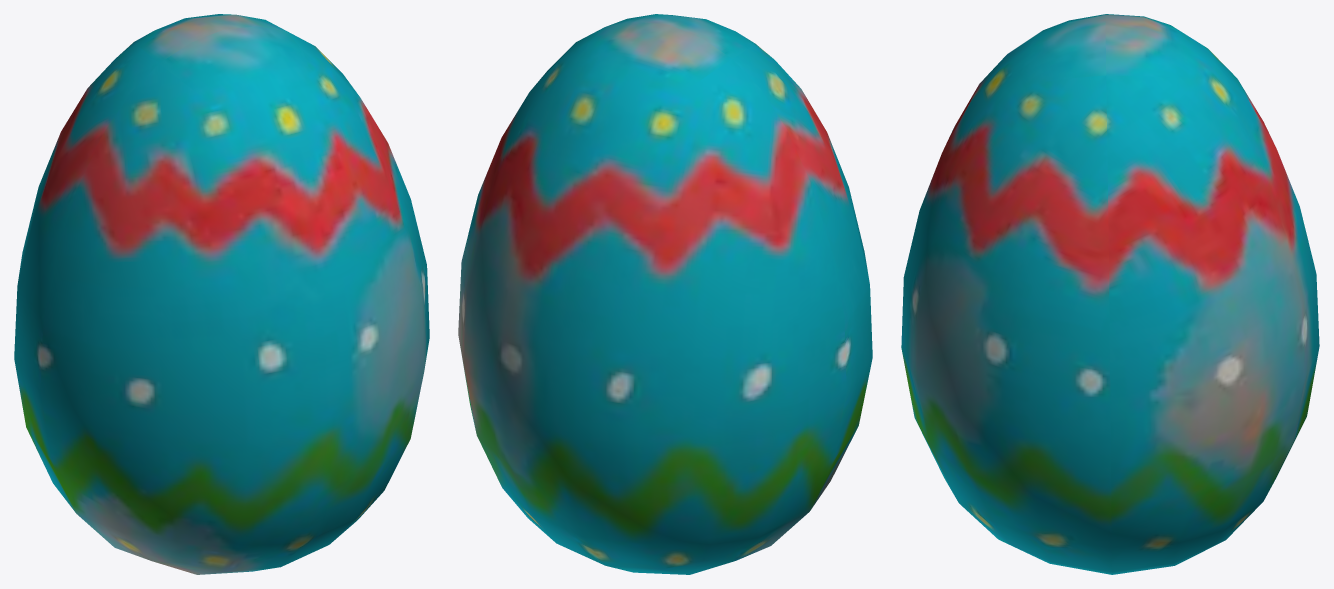
Rendered from paintedegg2.glb.
3 views of the same model, side by side, from view 1: azimuth 30°, elevation 25°; view 2: azimuth 150°, elevation 25°; view 3: azimuth 270°, elevation 25° (orthographic).
Parts seen in each view (by area): view 1: PaintedEgg2; view 2: PaintedEgg2; view 3: PaintedEgg2.
Boxes of the visible parts, x1,y1,x2,y2 form: PaintedEgg2: (14,14,429,574); PaintedEgg2: (458,14,872,574); PaintedEgg2: (901,14,1319,574).
Bounding box in the file's own units: 0.2316 × 0.3238 × 0.2316.
Materials: 1 (1 with a texture image).
